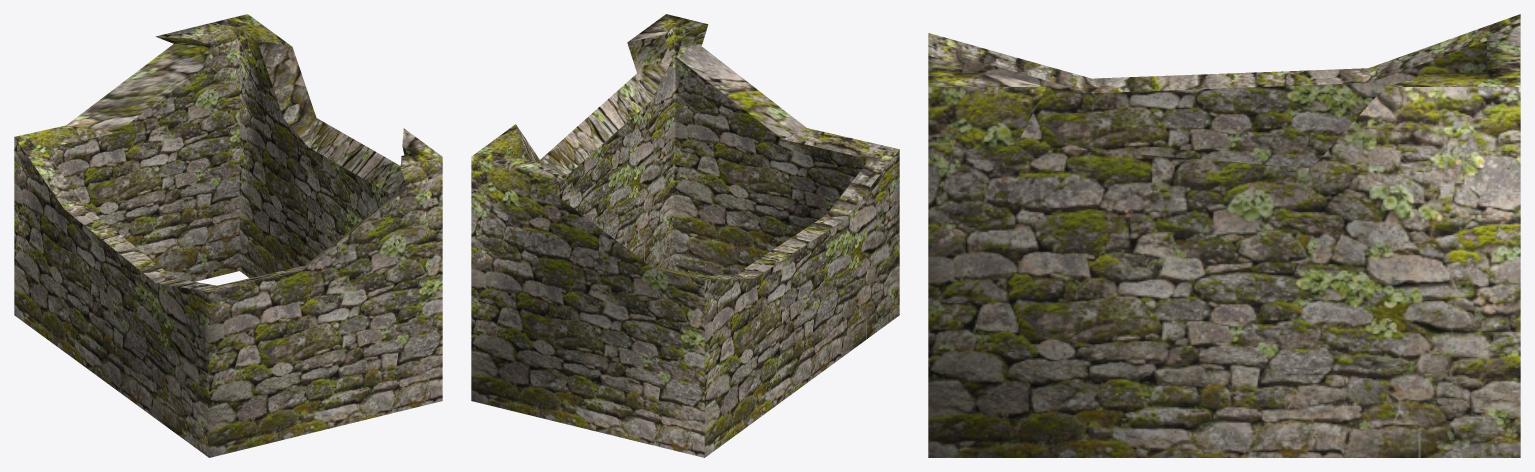
The model's file is Deco.RuinA.fbx.
3 views of the same model, side by side, from view 1: azimuth 30°, elevation 25°; view 2: azimuth 150°, elevation 25°; view 3: azimuth 270°, elevation 25° (orthographic). The views are drawn at different scales.
Visible parts, largest first — view 1: Ruin.1; view 2: Ruin.1; view 3: Ruin.1.
Part boxes in pixels (x1=…): Ruin.1: x1=14, y1=14, x2=442, y2=457; Ruin.1: x1=471, y1=14, x2=899, y2=457; Ruin.1: x1=928, y1=14, x2=1520, y2=457.
Size of the model in its own units: 100 by 99.92 by 145.
